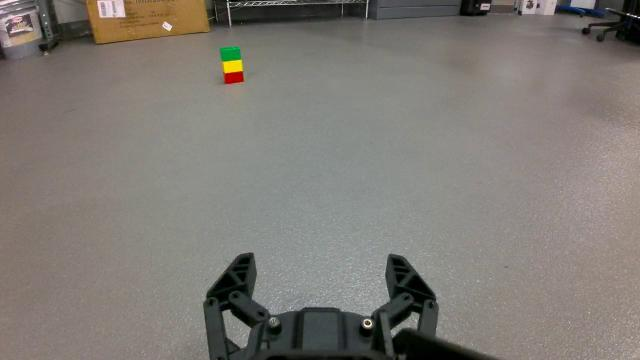lego: (218, 44, 246, 85)
